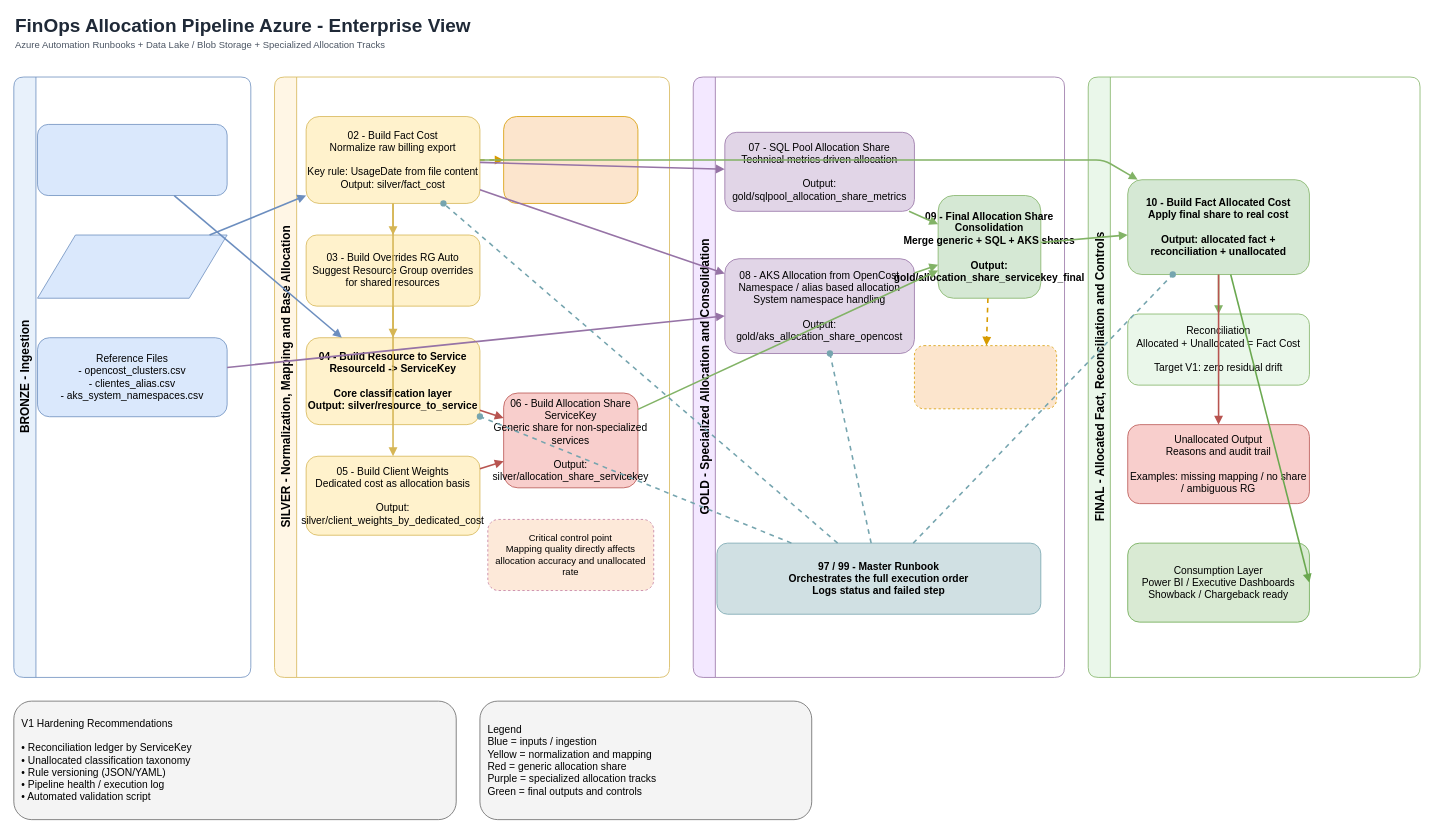
Image size: 1434x833. Some labels were removed from this diagram. The centre of each missing label's shape, as x and y in pixels:
"01 - Upload Inventory Inventory Daily Output: bronze/inventory_daily" belongs at [132,160].
"Azure Cost Export CSV / recurring export Source for fact_cost" belongs at [132,266].
"Date Logic PipelineDate != UsageDate Avoid fixed D-1 assumptions" belongs at [570,159].
"V1 Control Normalize by ServiceKey Share sum = 1" belongs at [985,377].
